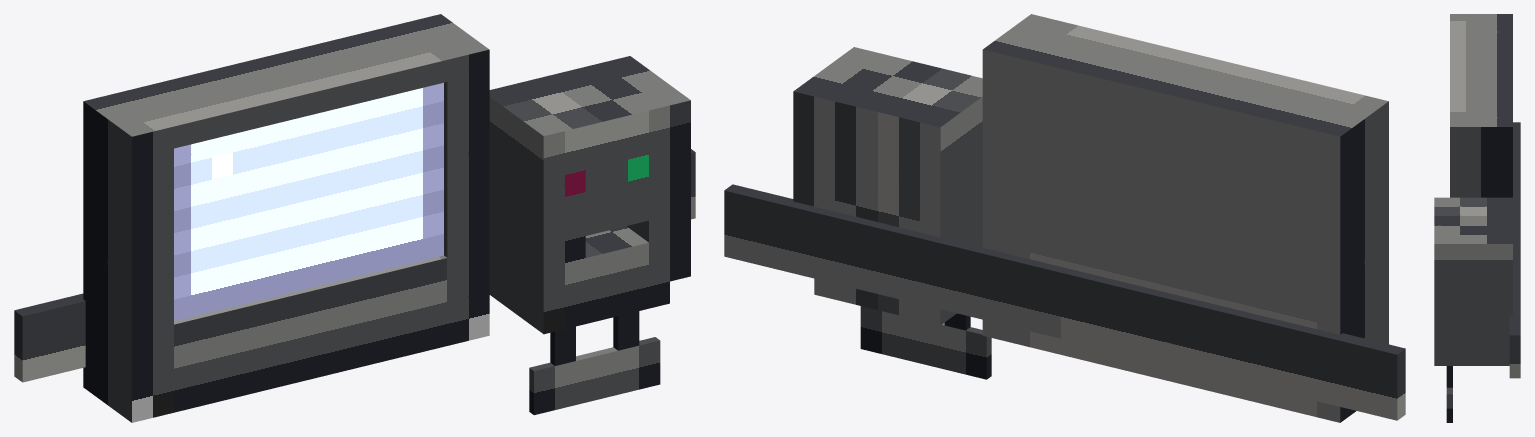
The model's file is ticket_machine_ready.glb.
3 views of the same model, side by side, from view 1: azimuth 30°, elevation 25°; view 2: azimuth 150°, elevation 25°; view 3: azimuth 270°, elevation 25° (orthographic). The views are drawn at different scales.
Parts seen in each view (by area): view 1: Continuous_Display_Housing, Continuous_Ticket_Dispenser, Recessed_Display_Surface, Lower_Dispenser_Bracket, Shared_Wall_Mounting_Rail; view 2: Continuous_Display_Housing, Shared_Wall_Mounting_Rail, Continuous_Ticket_Dispenser, Lower_Dispenser_Bracket; view 3: Continuous_Ticket_Dispenser, Continuous_Display_Housing, Shared_Wall_Mounting_Rail, Lower_Dispenser_Bracket.
Boxes of the visible parts, x1,y1,x2,y2 form: Continuous_Display_Housing: [83, 14, 489, 422]; Continuous_Ticket_Dispenser: [489, 56, 690, 334]; Recessed_Display_Surface: [174, 82, 443, 321]; Lower_Dispenser_Bracket: [529, 311, 660, 415]; Shared_Wall_Mounting_Rail: [14, 149, 695, 382]; Continuous_Display_Housing: [982, 14, 1388, 422]; Shared_Wall_Mounting_Rail: [724, 184, 1405, 420]; Continuous_Ticket_Dispenser: [793, 47, 982, 325]; Lower_Dispenser_Bracket: [860, 306, 991, 379]; Continuous_Ticket_Dispenser: [1434, 197, 1512, 365]; Continuous_Display_Housing: [1450, 14, 1512, 197]; Shared_Wall_Mounting_Rail: [1509, 122, 1520, 378]; Lower_Dispenser_Bracket: [1446, 366, 1452, 422].
Size of the model in its own units: 0.9 by 0.4781 by 0.1547.
Materials: 2 (2 with a texture image).
